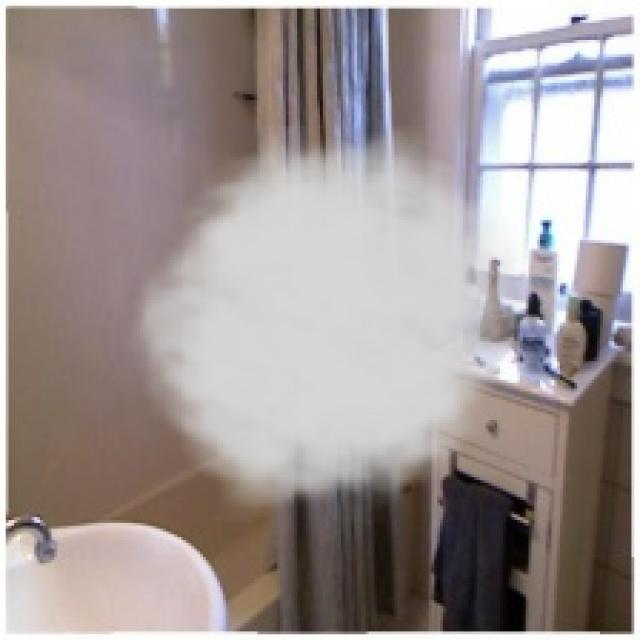smoke: (117, 125, 543, 526)
